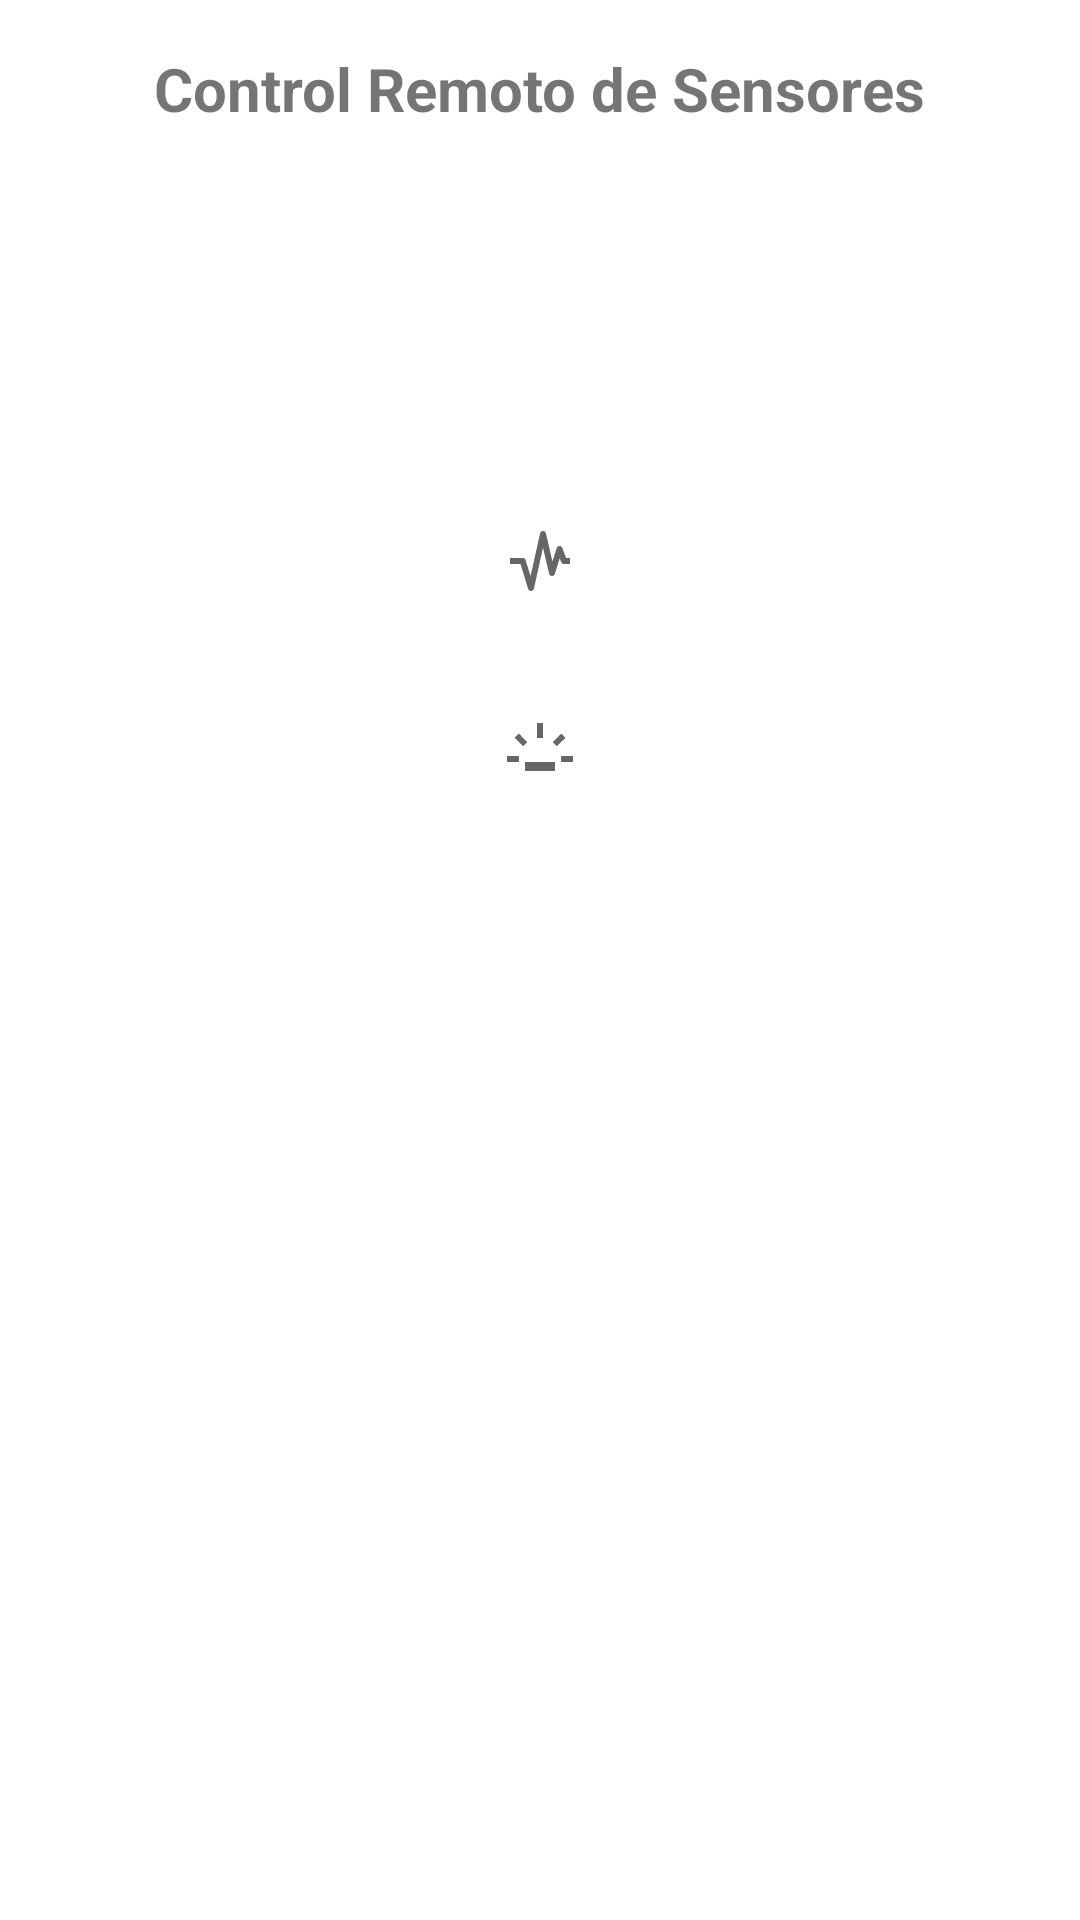

Screen size 1080w x 1920h. Icon name, then its center in pixels as (x=x, y=y):
Fotoresistencia: (x=540, y=747)
Sensor de Sismo: (x=540, y=561)
